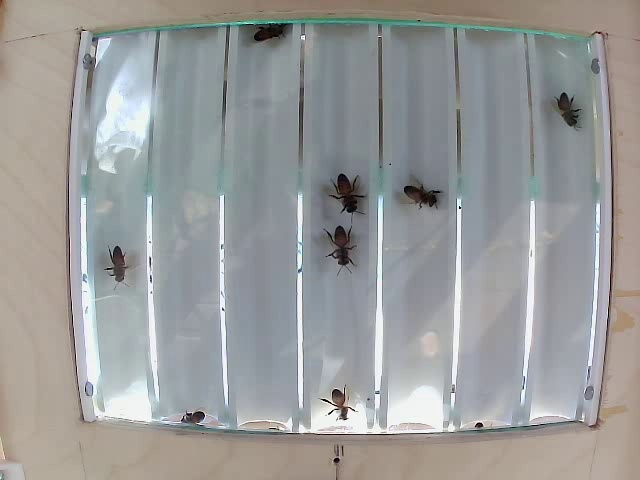bee: (317, 227, 362, 280), (331, 155, 361, 223), (98, 244, 139, 285), (403, 180, 437, 220), (247, 16, 287, 49), (323, 385, 359, 420), (556, 93, 581, 137)
